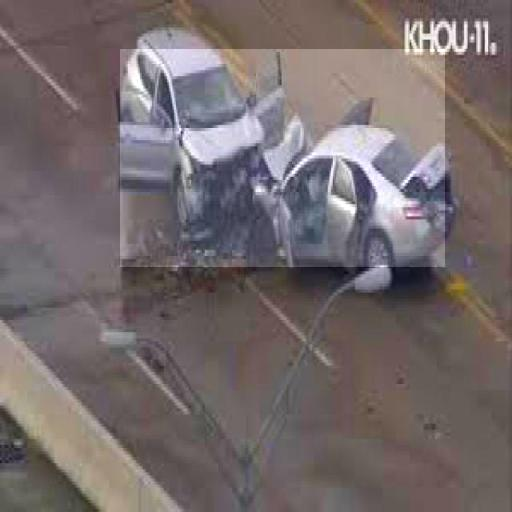小汽车撞小汽车: (120, 49, 445, 267)
